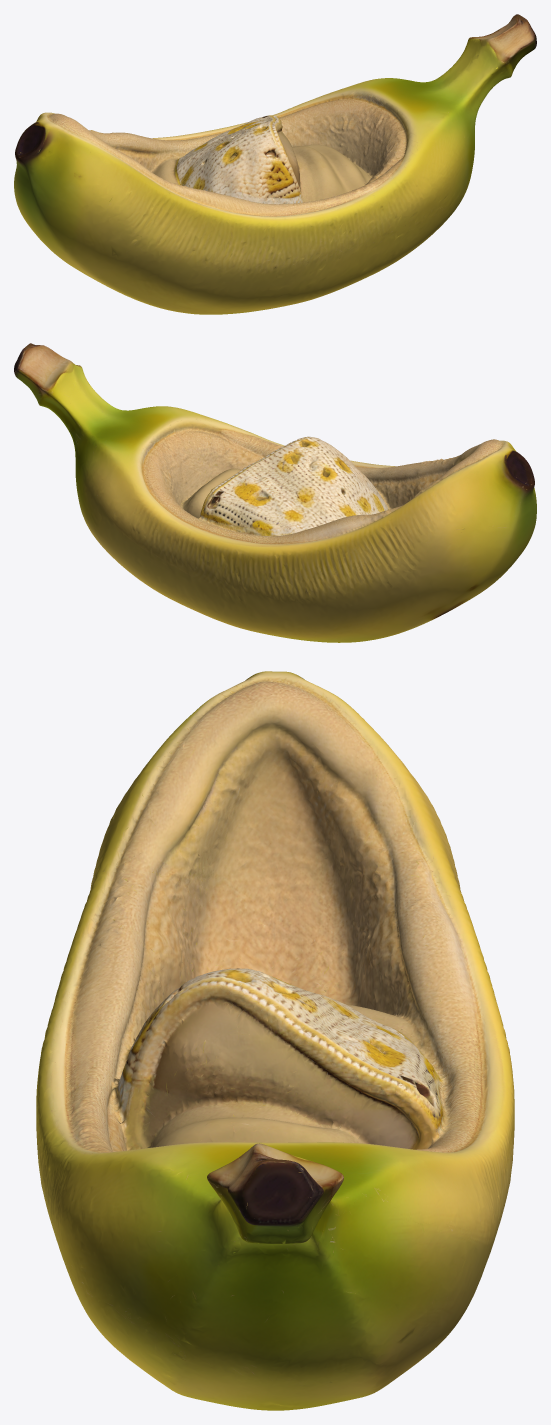
Rendered from raw.glb.
3 views of the same model, one above another, from view 1: azimuth 30°, elevation 25°; view 2: azimuth 150°, elevation 25°; view 3: azimuth 270°, elevation 25° (orthographic). The views are drawn at different scales.
Parts seen in each view (by area): view 1: Mesh_0; view 2: Mesh_0; view 3: Mesh_0.
Boxes of the visible parts, x1,y1,x2,y2 form: Mesh_0: (14,14,536,314); Mesh_0: (14,343,536,642); Mesh_0: (36,671,514,1410).
Size of the model in its own units: 1.91 by 0.8166 by 0.7737.
1 material, 1 textured.
